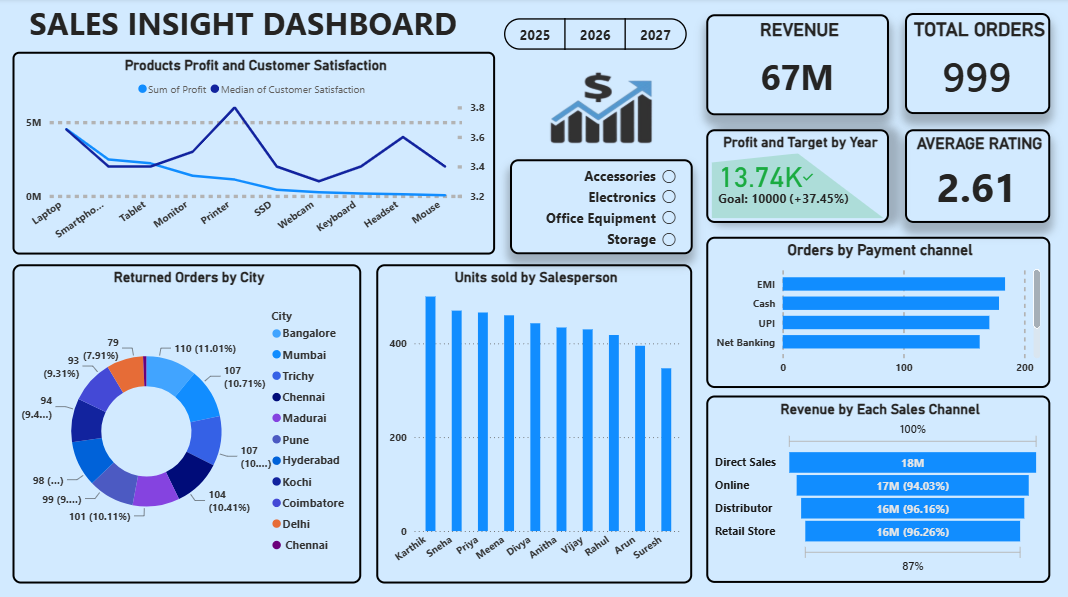

Layout of this report page (visuals, bound fields, positions):
{"tool":"powerbi","page":{"name":"Page 1","canvas":[1280,720],"ordinal":0},"visuals":[{"type":"cardVisual","title":"TOTAL ORDERS","fields":{"Data":["PRACTICE DATASET(Sales_Data).TOT_Ord"]},"box":[1067.7,14.5,188.7,127.4],"z":0},{"type":"textbox","box":[14.5,0,551.6,64.5],"z":1000},{"type":"cardVisual","title":"REVENUE","fields":{"Data":["Sum(PRACTICE DATASET(Sales_Data).Revenue)"]},"box":[822.8,13.9,227.8,127.8],"z":2000},{"type":"cardVisual","title":"AVERAGE RATING","fields":{"Data":["PRACTICE DATASET(Sales_Data).Ratings"]},"box":[1067.6,163.3,189.4,113.9],"z":3000},{"type":"lineChart","title":"Products Profit  and Customer Satisfaction","fields":{"Category":["PRACTICE DATASET(Sales_Data).Product"],"Y2":["Median(PRACTICE DATASET(Sales_Data).Customer Satisfaction)"],"Y":["Sum(PRACTICE DATASET(Sales_Data).Profit)"]},"box":[13.9,58.2,569.6,264.6],"z":4000},{"type":"donutChart","title":"Returned Orders by City","fields":{"Category":["PRACTICE DATASET(Sales_Data).City"],"Y":["CountNonNull(PRACTICE DATASET(Sales_Data).Returned)"]},"box":[14.5,333.9,417.7,366.1],"z":5000},{"type":"ribbonChart","title":"Units sold by Salesperson","fields":{"Category":["PRACTICE DATASET(Sales_Data).Salesperson"],"Y":["Sum(PRACTICE DATASET(Sales_Data).Quantity)"]},"box":[443,334.2,369.6,365.8],"z":6000},{"type":"kpi","title":"Profit and Target by Year","fields":{"Indicator":["Sum(PRACTICE DATASET(Sales_Data).Profit)"],"Goal":["PRACTICE DATASET(Sales_Data).Target"],"TrendLine":["PRACTICE DATASET(Sales_Data).OrderDate.Variation.Date Hierarchy.Year"]},"box":[822.8,163.3,234.2,113.9],"z":6001},{"type":"advancedSlicerVisual","fields":{"Values":["PRACTICE DATASET(Sales_Data).OrderDate.Variation.Date Hierarchy.Year"]},"box":[591.9,21,209.7,37.1],"z":6002},{"type":"image","box":[596.2,78.5,198.7,111.4],"z":6003},{"type":"listSlicer","fields":{"Values":["PRACTICE DATASET(Sales_Data).Category"]},"box":[596.8,214.5,198.4,108.1],"z":6004},{"type":"barChart","title":"Orders by Payment Channel","fields":{"Y":["CountNonNull(PRACTICE DATASET(Sales_Data).Order ID)"],"Category":["PRACTICE DATASET(Sales_Data).Payment"]},"box":[822.8,294.9,434.2,183.5],"z":6005},{"type":"actionButton","box":[615.2,83.5,162,106.3],"z":6006},{"type":"funnel","title":"Revenue by Each Sales Channel","fields":{"Category":["PRACTICE DATASET(Sales_Data).Sales Channel"],"Y":["Sum(PRACTICE DATASET(Sales_Data).Revenue)"]},"box":[822.8,491.1,434.2,208.9],"z":6007}]}

Visuals, with their boxes in screenshot pixels (x1, y1, x2, y2), scaled from the page's 1280x720 canvas onto the 1068x597 screenshot:
"TOTAL ORDERS" cardVisual: detection(891, 12, 1048, 118)
textbox: detection(12, 0, 472, 53)
"REVENUE" cardVisual: detection(687, 12, 877, 117)
"AVERAGE RATING" cardVisual: detection(891, 135, 1049, 230)
"Products Profit  and Customer Satisfaction" lineChart: detection(12, 48, 487, 268)
"Returned Orders by City" donutChart: detection(12, 277, 361, 580)
"Units sold by Salesperson" ribbonChart: detection(370, 277, 678, 580)
"Profit and Target by Year" kpi: detection(687, 135, 882, 230)
advancedSlicerVisual - PRACTICE DATASET(Sales_Data).OrderDate.Variation.Date Hierarchy.Year: detection(494, 17, 669, 48)
image: detection(497, 65, 663, 157)
listSlicer - PRACTICE DATASET(Sales_Data).Category: detection(498, 178, 663, 267)
"Orders by Payment Channel" barChart: detection(687, 245, 1049, 397)
actionButton: detection(513, 69, 648, 157)
"Revenue by Each Sales Channel" funnel: detection(687, 407, 1049, 580)
